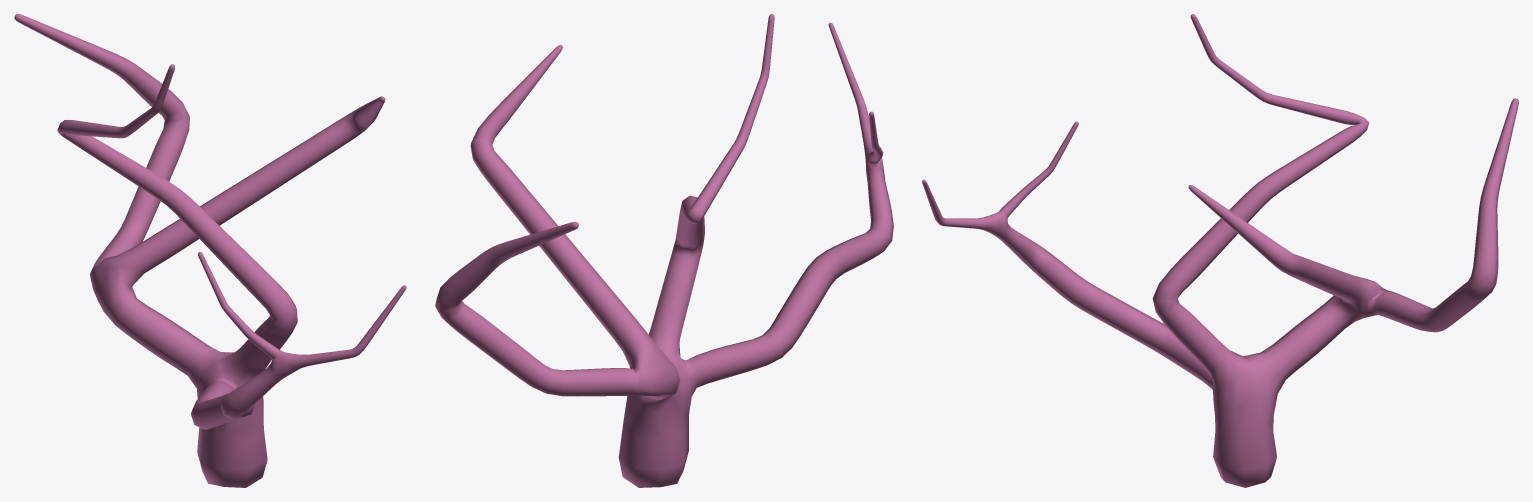
Rendered from koraalroze.fbx.
The picture shows the model from 3 angles, left to right: view 1: azimuth 30°, elevation 25°; view 2: azimuth 150°, elevation 25°; view 3: azimuth 270°, elevation 25°; orthographic projection. The views are drawn at different scales.
Visible parts, largest first — view 1: Vert; view 2: Vert; view 3: Vert.
Part boxes in pixels (<box>): Vert: <box>14,14,406,487</box>; Vert: <box>435,14,893,487</box>; Vert: <box>922,14,1518,487</box>.
Bounding box in the file's own units: 7314 × 11471 × 14436.
